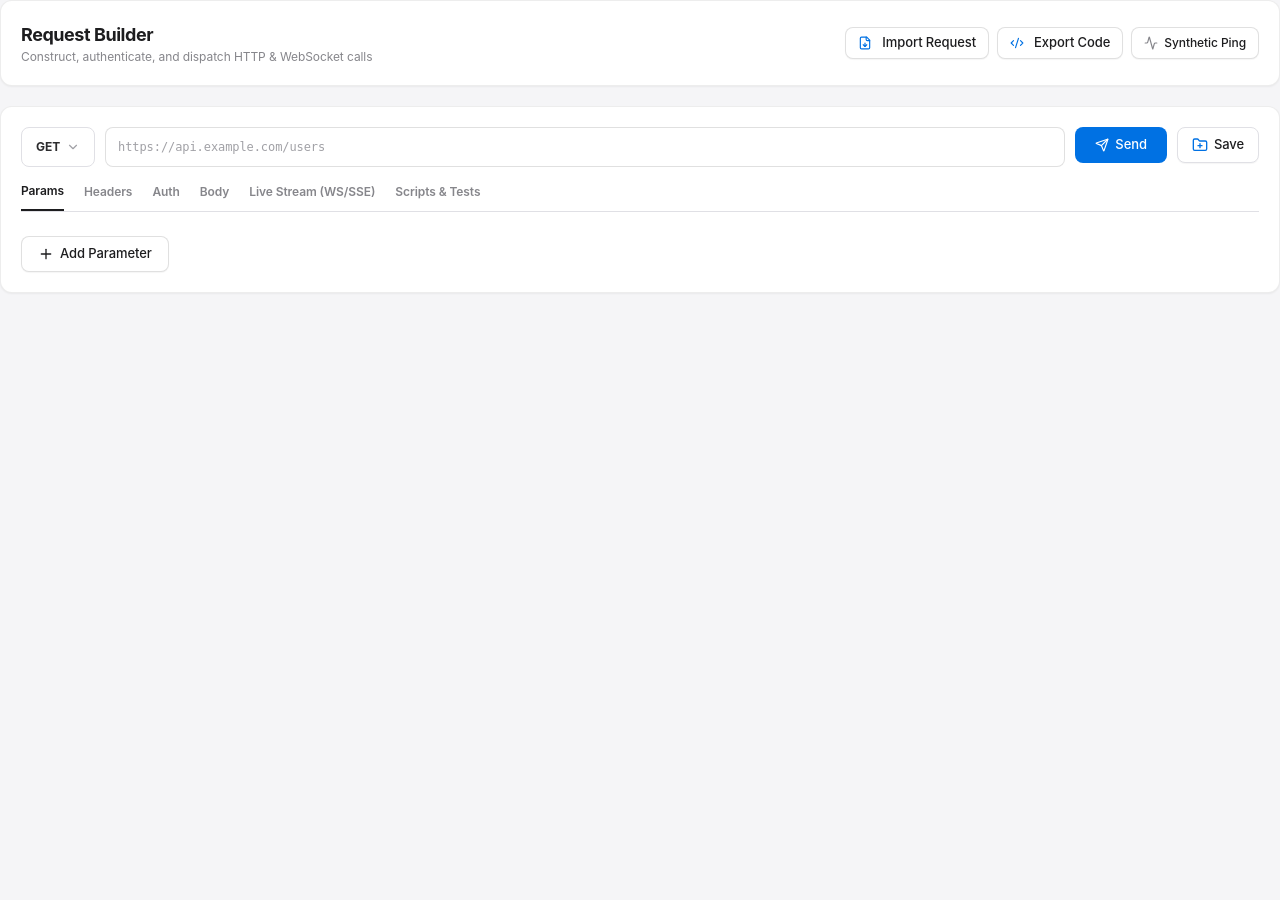
Test: QA regressions › shows an inline error (not a blocking alert dialog) when saving a request without a URL
Step 1. Click the button titled "Save request to an API Collection" → point(1218, 145), box 1177,127 -> 1259,163
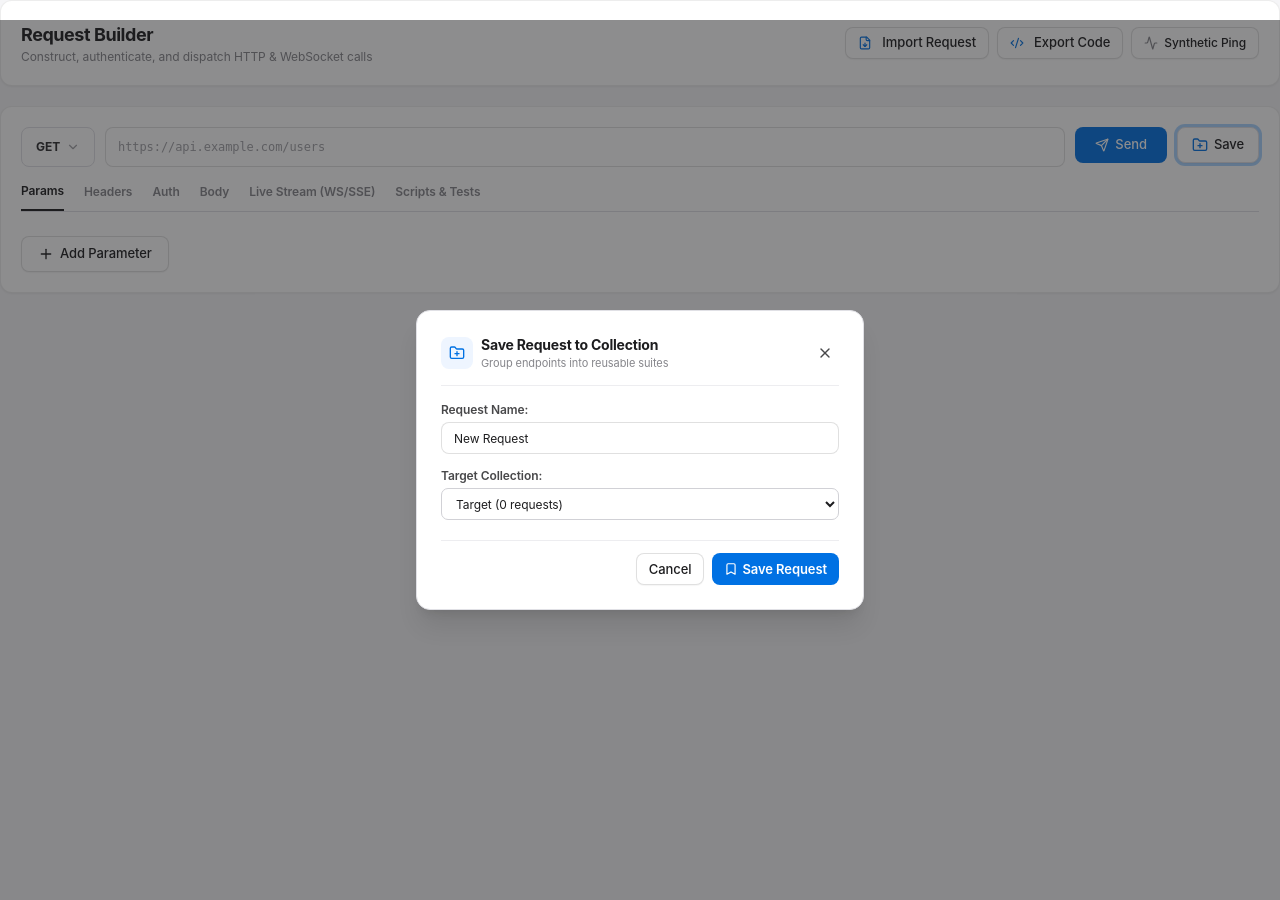
Step 2. Click the button "Save Request" → point(776, 569), box 712,553 -> 839,585
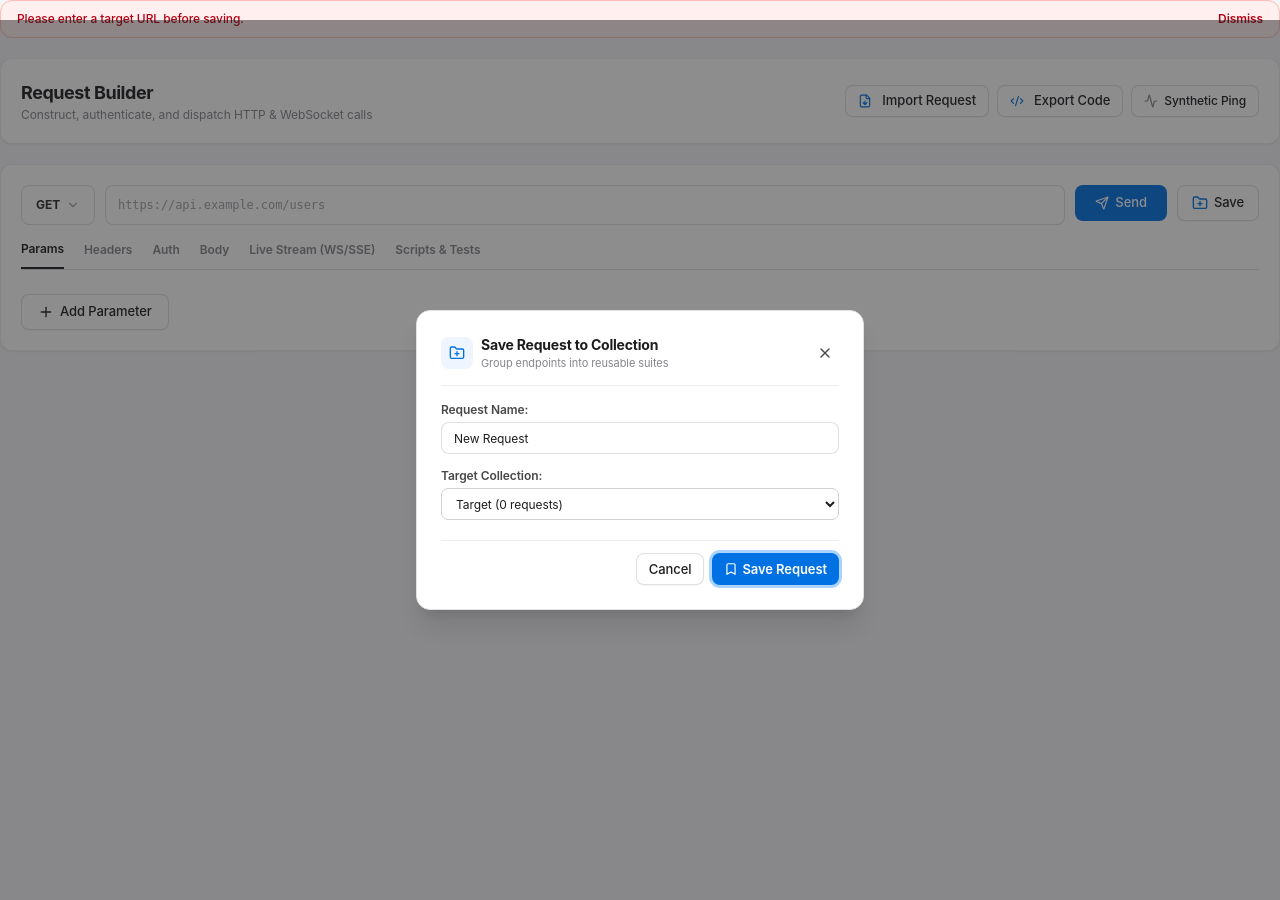
Now the text "Please enter a target URL before saving." is shown, box 17,11 -> 244,27
